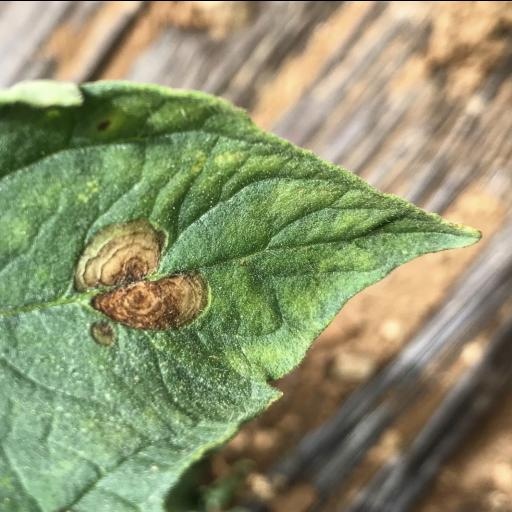disease_tomato: (0, 79, 483, 512)
